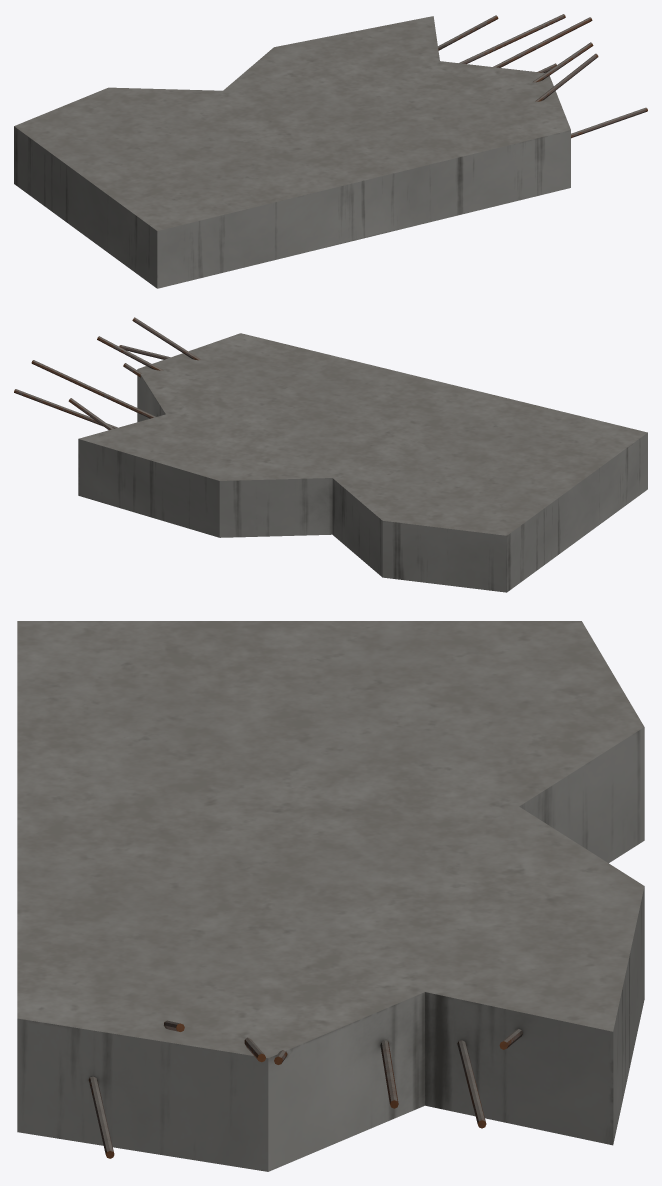
Rendered from SM_ConcreteSlab_Broken.fbx.
3 views of the same model, one above another, from view 1: azimuth 30°, elevation 25°; view 2: azimuth 150°, elevation 25°; view 3: azimuth 270°, elevation 25° (orthographic). The views are drawn at different scales.
Visible parts, largest first — view 1: SM_ConcreteSlab_Broken; view 2: SM_ConcreteSlab_Broken; view 3: SM_ConcreteSlab_Broken.
Part boxes in pixels (x1,y1,x2,y2): SM_ConcreteSlab_Broken: (14,14,647,288); SM_ConcreteSlab_Broken: (14,317,647,592); SM_ConcreteSlab_Broken: (17,621,644,1171).
Bounding box in the file's own units: 1.92 × 0.3039 × 1.
1 material, 1 textured.
